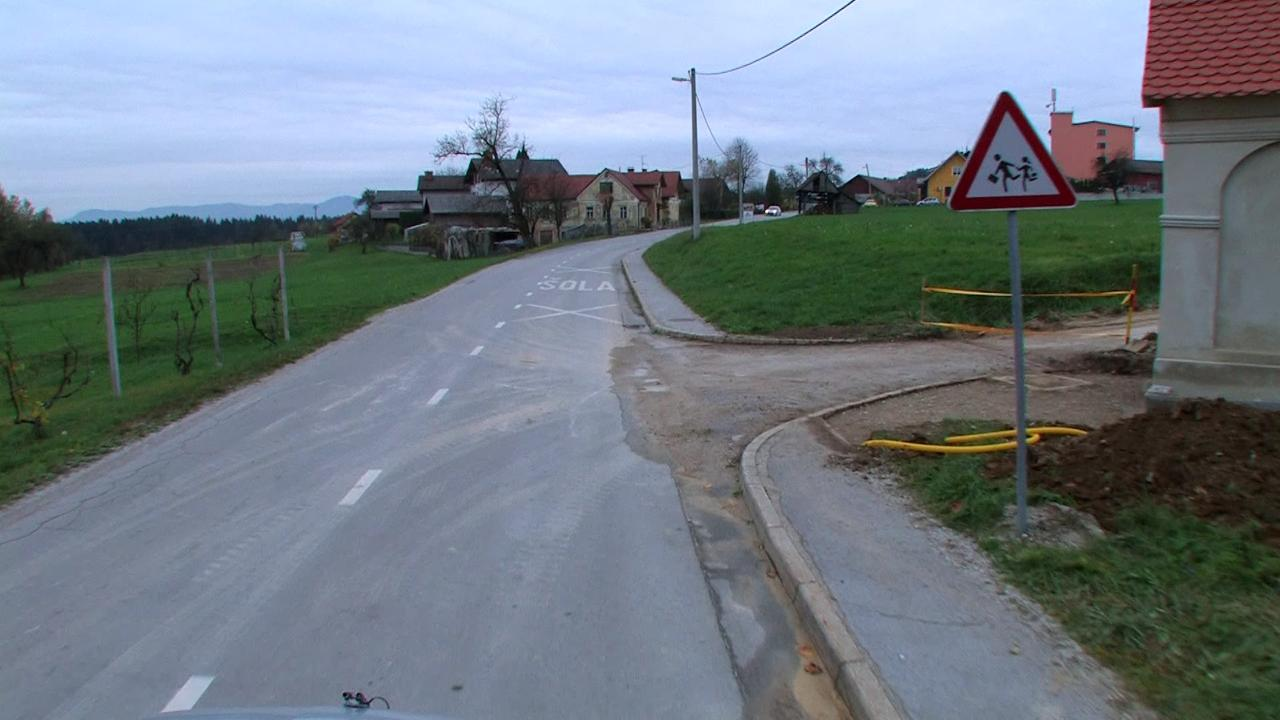Triangle: (946, 92, 1080, 212)
